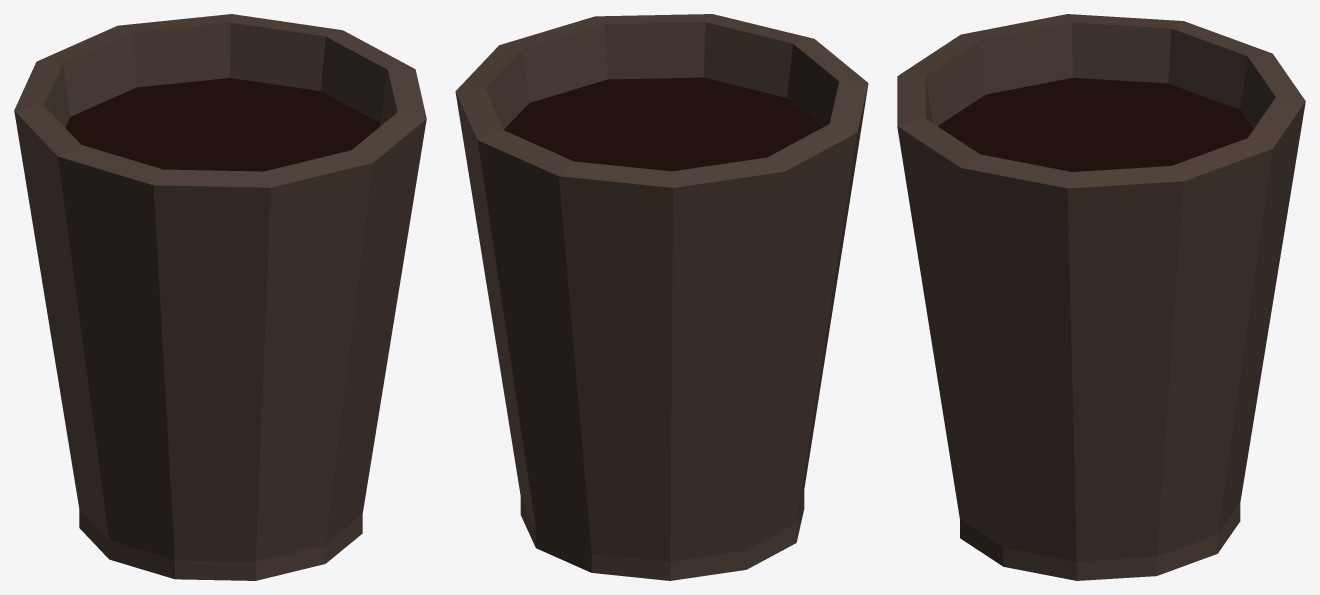
Rendered from herbata.obj.
The picture shows the model from 3 angles, left to right: view 1: azimuth 30°, elevation 25°; view 2: azimuth 150°, elevation 25°; view 3: azimuth 270°, elevation 25°; orthographic projection.
Parts seen in each view (by area): view 1: Cylinder.001; view 2: Cylinder.001; view 3: Cylinder.001.
Boxes of the visible parts, <box> form: Cylinder.001: <box>14,14,426,580</box>; Cylinder.001: <box>455,14,868,580</box>; Cylinder.001: <box>897,14,1305,580</box>.
Bounding box in the file's own units: 2.88 × 3.27 × 2.85.
